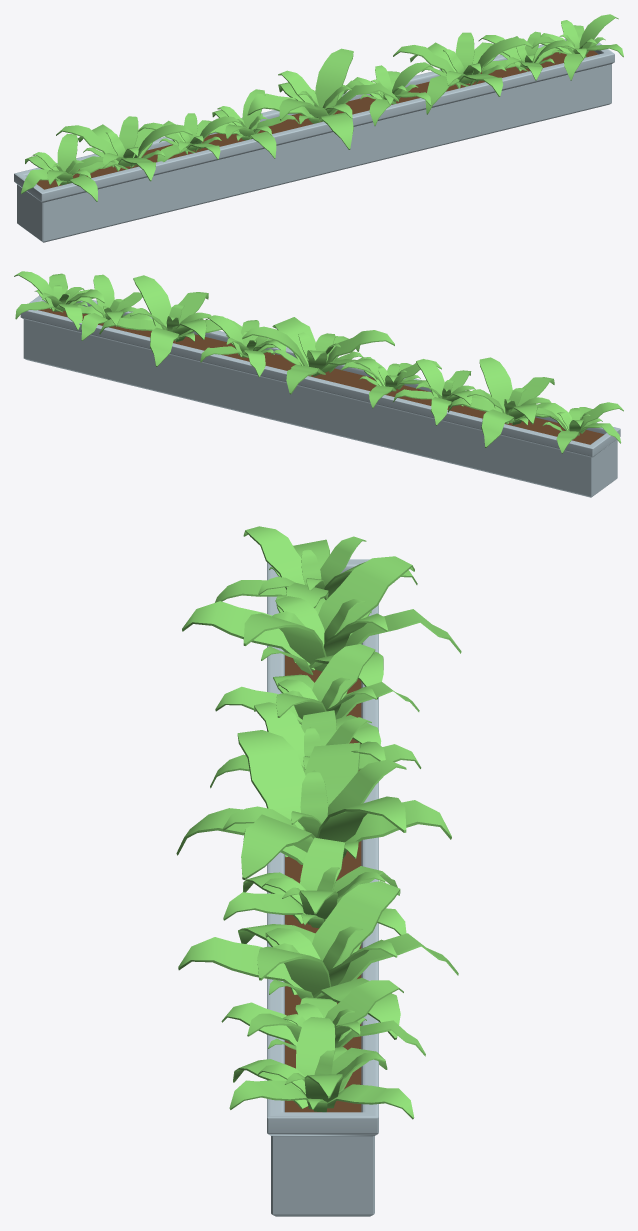
The model's file is Planter large.fbx.
3 renders of one model, top to bottom at view 1: azimuth 30°, elevation 25°; view 2: azimuth 150°, elevation 25°; view 3: azimuth 270°, elevation 25°, orthographic. The views are drawn at different scales.
Parts seen in each view (by area): view 1: Planter_Large, Plants_Large_Planter, Earth_Large_Planter; view 2: Planter_Large, Plants_Large_Planter, Earth_Large_Planter; view 3: Plants_Large_Planter, Planter_Large, Earth_Large_Planter.
Part boxes in pixels (x1,y1,x2,y2): Planter_Large: [14, 39, 614, 242]; Plants_Large_Planter: [21, 14, 623, 201]; Earth_Large_Planter: [37, 50, 598, 189]; Planter_Large: [20, 295, 620, 497]; Plants_Large_Planter: [14, 271, 623, 453]; Earth_Large_Planter: [38, 308, 603, 444]; Plants_Large_Planter: [176, 526, 461, 1119]; Planter_Large: [267, 559, 378, 1216]; Earth_Large_Planter: [285, 655, 361, 1112].
Size of the model in its own units: 698 by 99.47 by 143.
